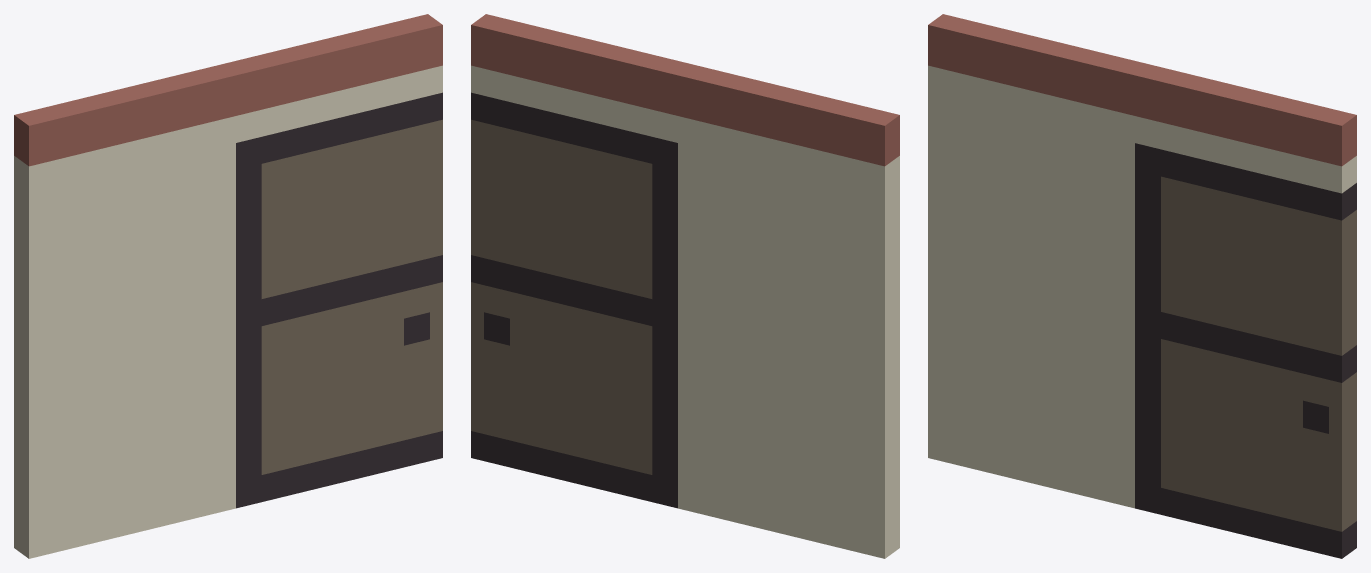
The model's file is Shops-60.obj.
3 views of the same model, side by side, from view 1: azimuth 30°, elevation 25°; view 2: azimuth 150°, elevation 25°; view 3: azimuth 330°, elevation 25° (orthographic).
Size of the model in its own units: 3.2 by 3.2 by 0.2.
Materials: 1 (1 with a texture image).
